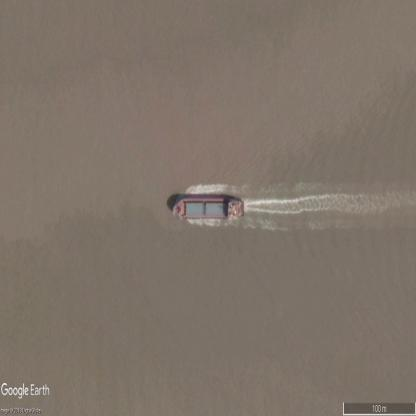ship: (173, 195, 244, 222)
